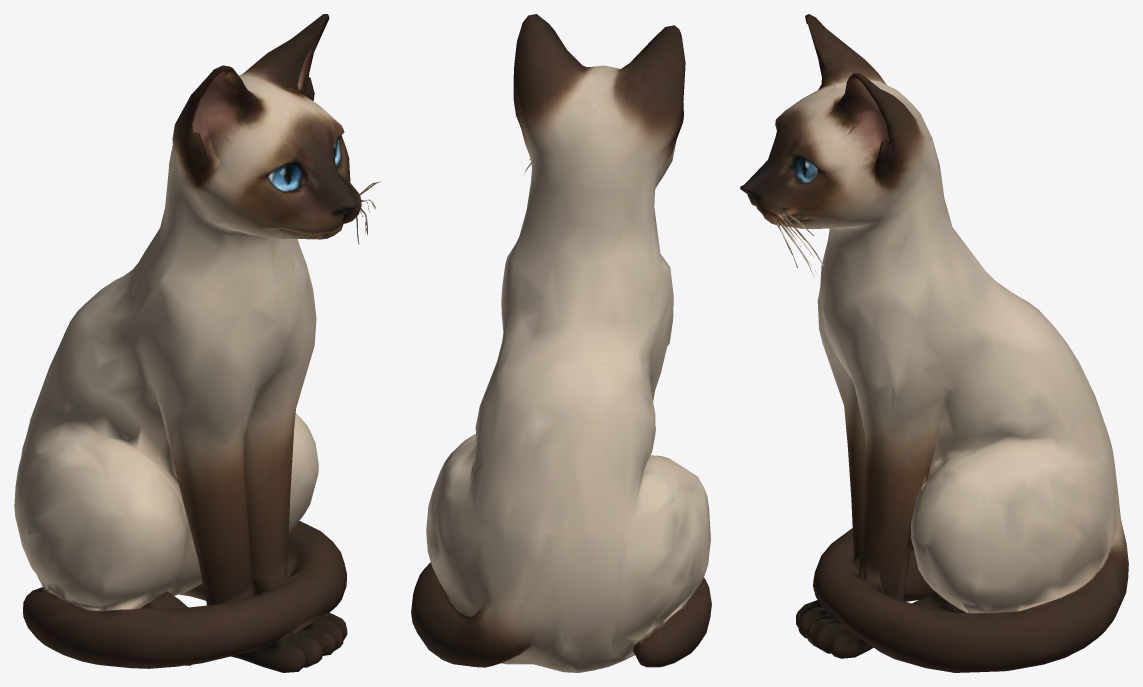
File: cat-sit.glb
3 views of the same model, side by side, from view 1: azimuth 30°, elevation 25°; view 2: azimuth 150°, elevation 25°; view 3: azimuth 270°, elevation 25° (orthographic). The views are drawn at different scales.
Parts seen in each view (by area): view 1: tripo_node_3173497a-f4f2-42d3-852e-0dadf84ae975; view 2: tripo_node_3173497a-f4f2-42d3-852e-0dadf84ae975; view 3: tripo_node_3173497a-f4f2-42d3-852e-0dadf84ae975.
Boxes of the visible parts, x1,y1,x2,y2 form: tripo_node_3173497a-f4f2-42d3-852e-0dadf84ae975: (14,14,381,672); tripo_node_3173497a-f4f2-42d3-852e-0dadf84ae975: (411,14,711,672); tripo_node_3173497a-f4f2-42d3-852e-0dadf84ae975: (740,14,1128,672).
Bounding box in the file's own units: 0.4916 × 0.998 × 0.6027.
1 material, 1 textured.
